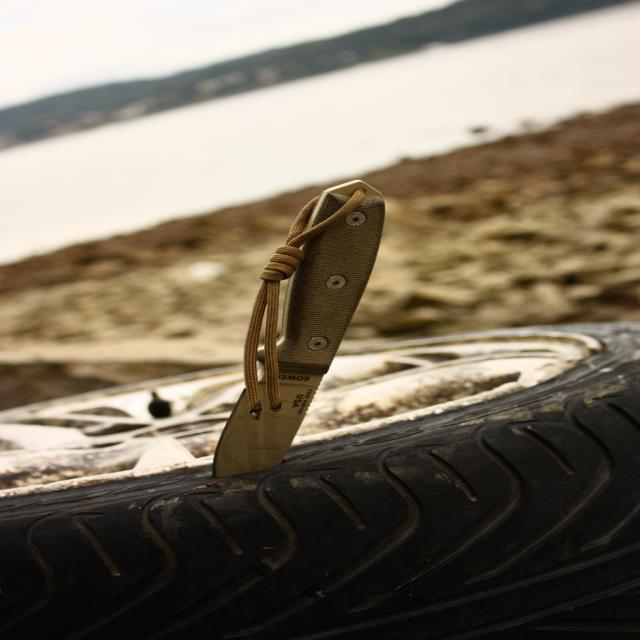Knife: (214, 180, 382, 476)
